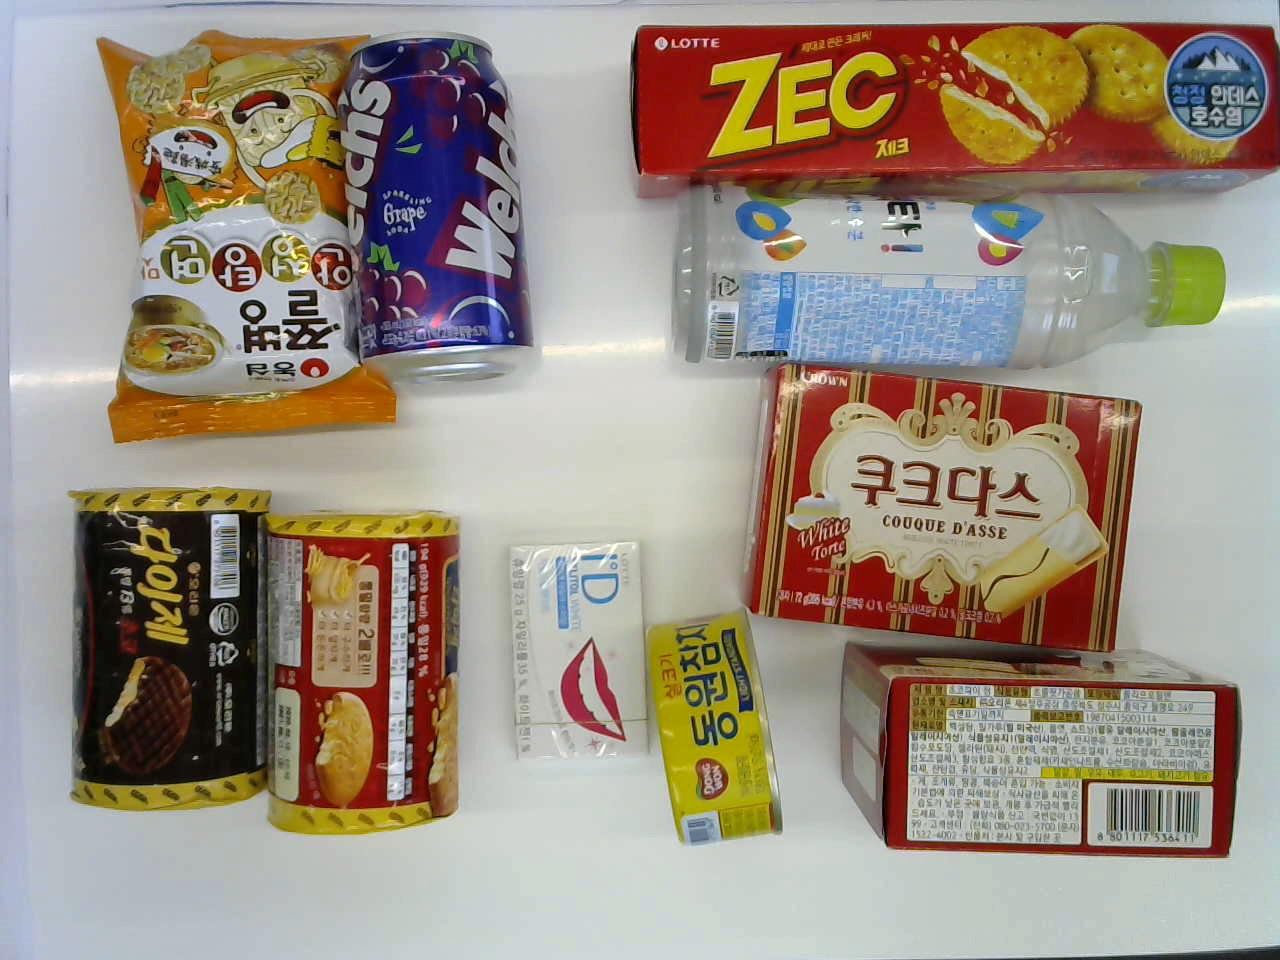ID_gum: (503, 541, 649, 758)
chocopie: (836, 640, 1242, 864)
couque_white: (746, 360, 1145, 653)
diget_choco: (70, 487, 267, 811)
diget_ori: (268, 506, 462, 837)
jjolbyung_noodle: (93, 28, 393, 445)
toreta: (673, 179, 1228, 369)
tuna: (646, 609, 788, 846)
welchs: (340, 27, 534, 381)
zec: (630, 21, 1280, 196)
